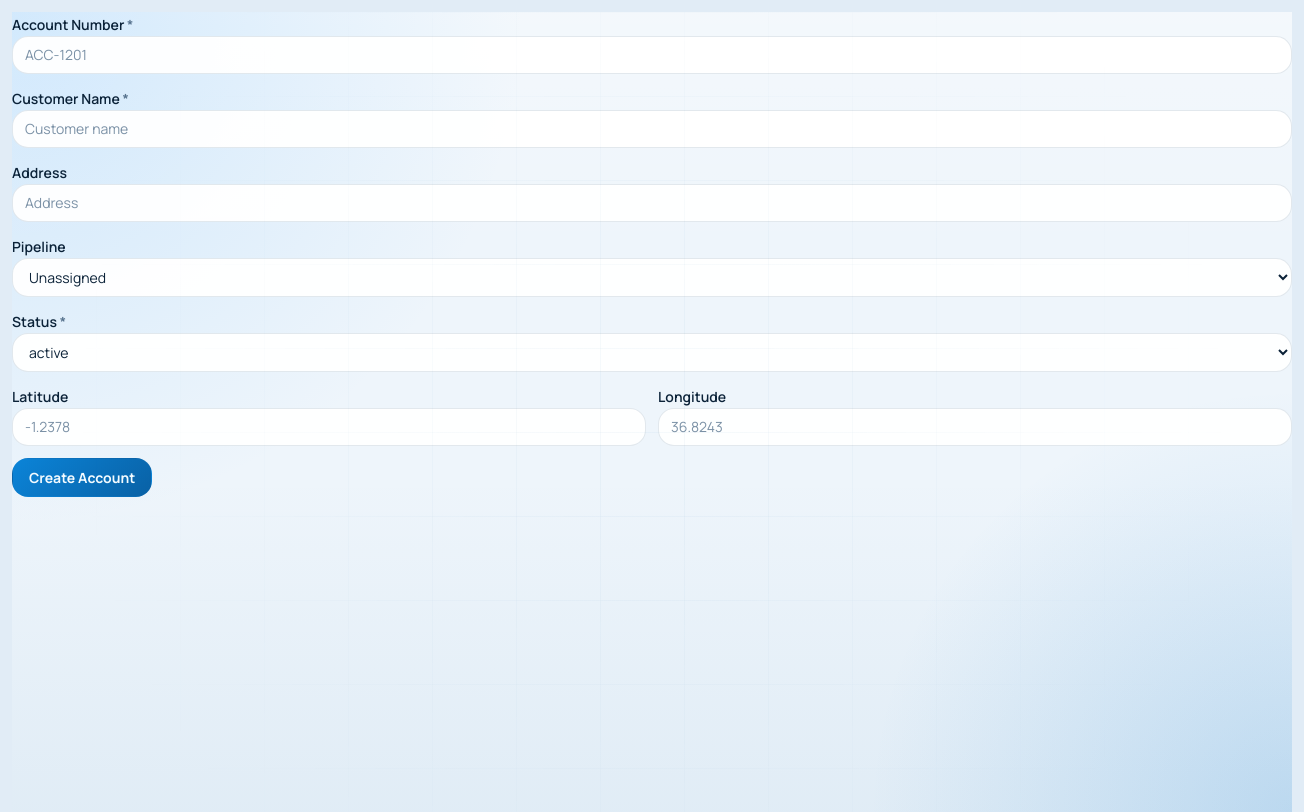
AccountFormClient › validates coordinate pair requirement
Type "acc-9001" into the field labelled "Account Number *".
click(652, 55); type("acc-9001")  # box [12, 36, 1292, 74]
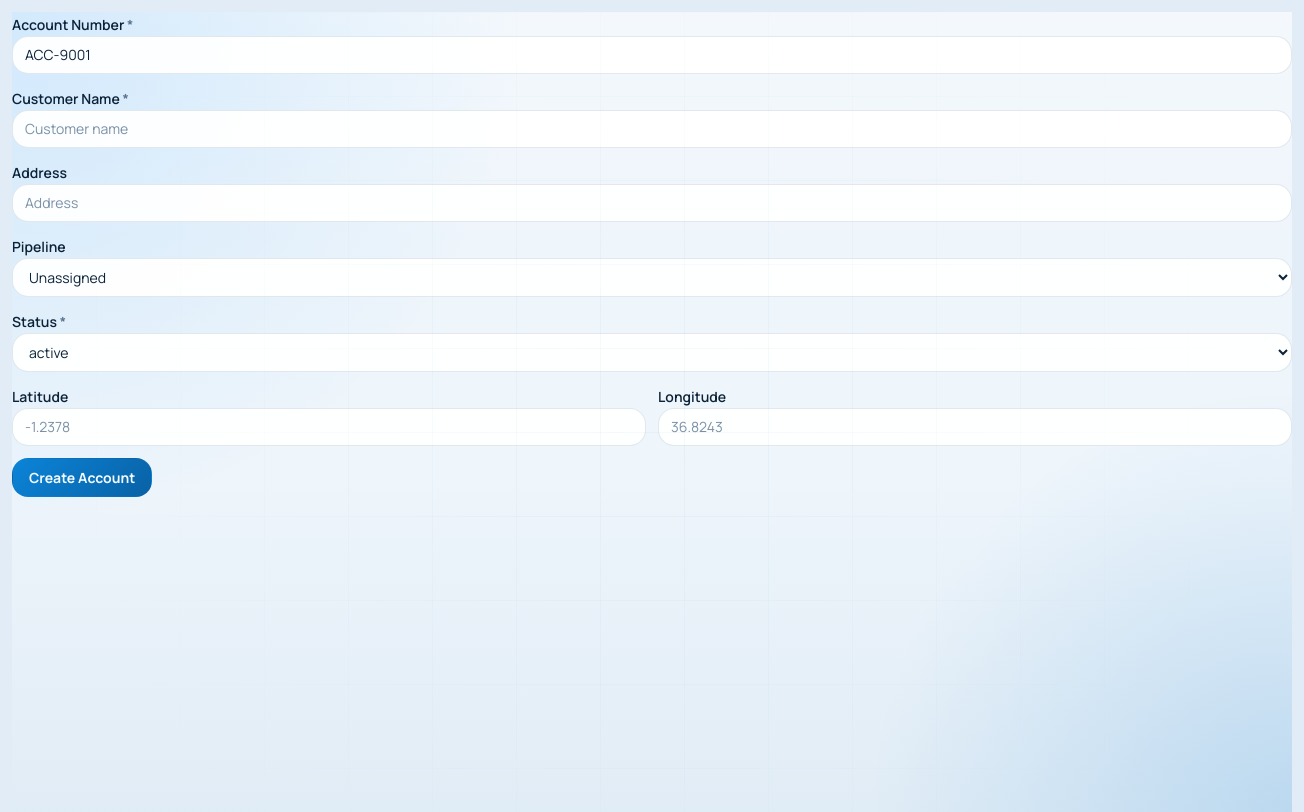
Type "New Customer" into the field labelled "Customer Name *".
click(652, 129); type("New Customer")  # box [12, 110, 1292, 148]
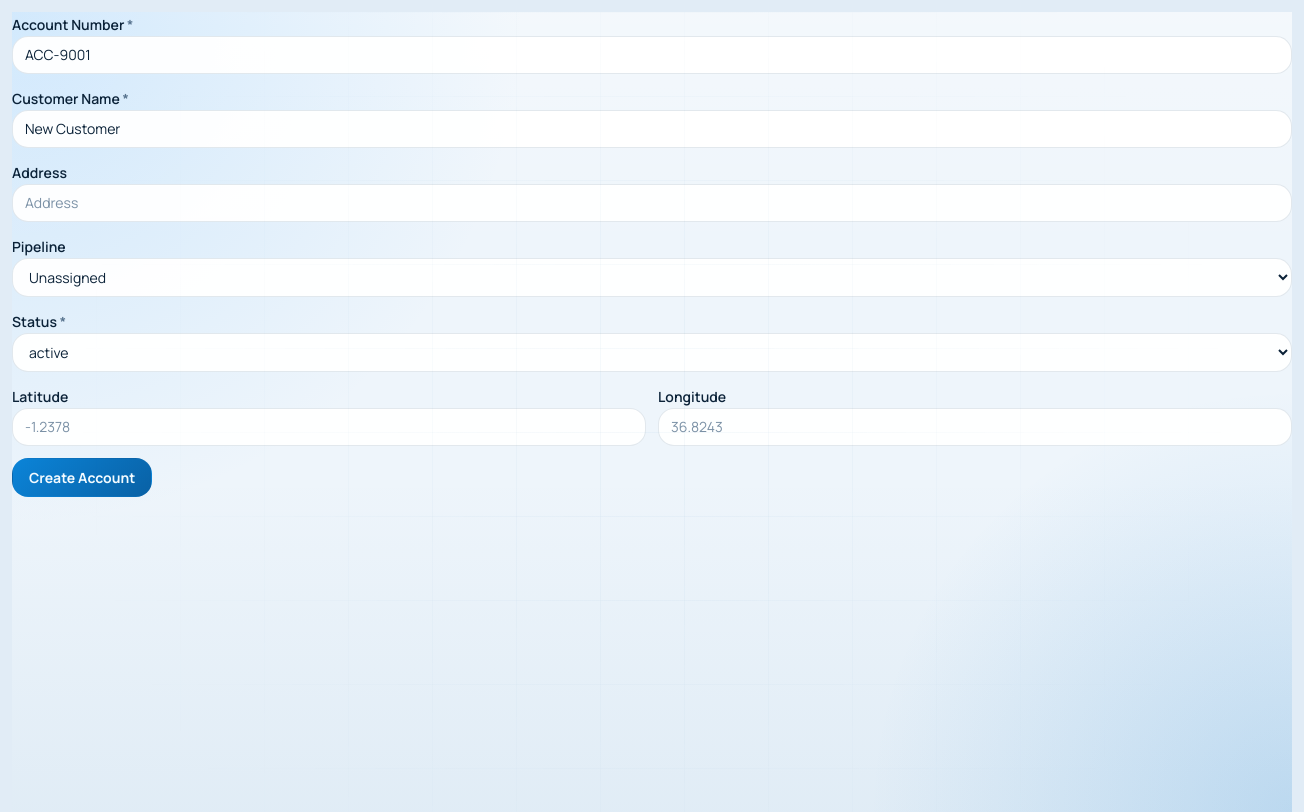
Type "6.50" into the field labelled "Latitude".
click(329, 427); type("6.50")  # box [12, 408, 646, 446]
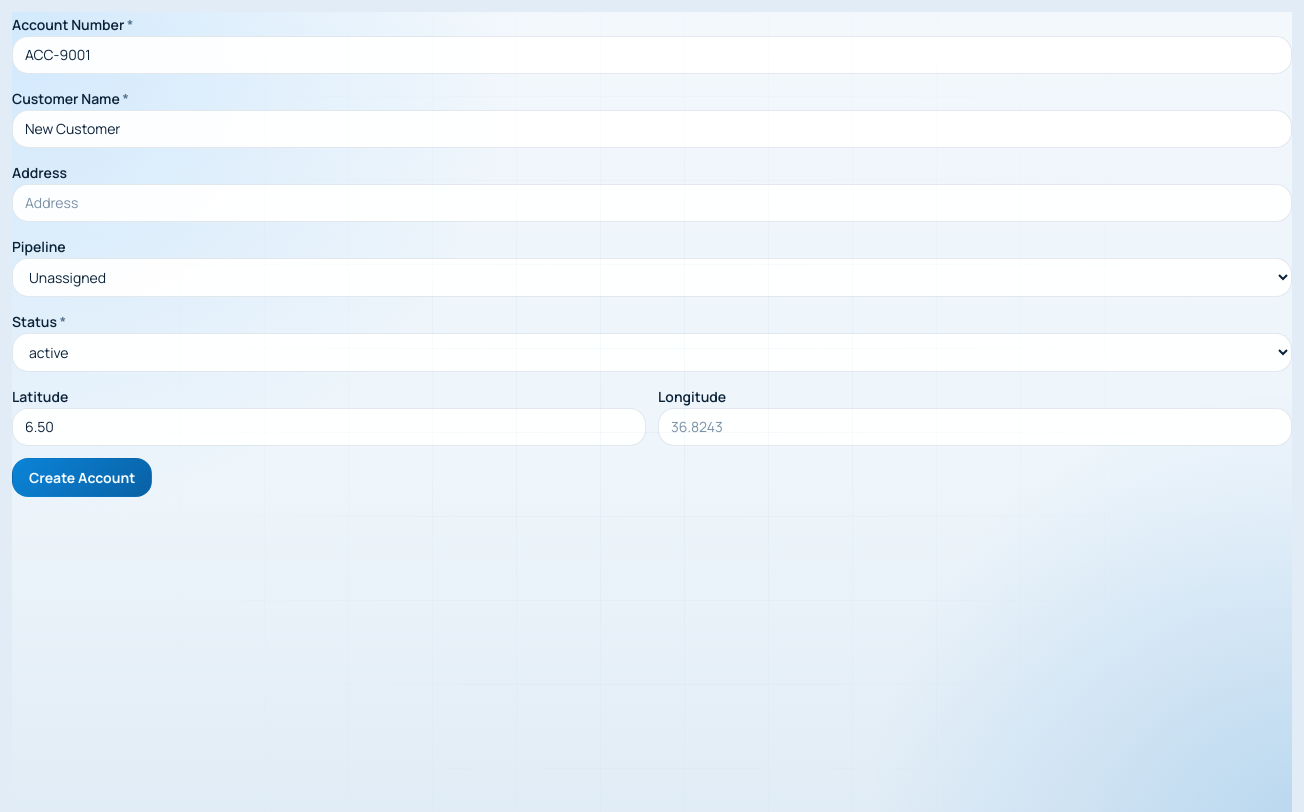
Click the button "Create Account".
click(82, 478)  # box [12, 458, 152, 497]
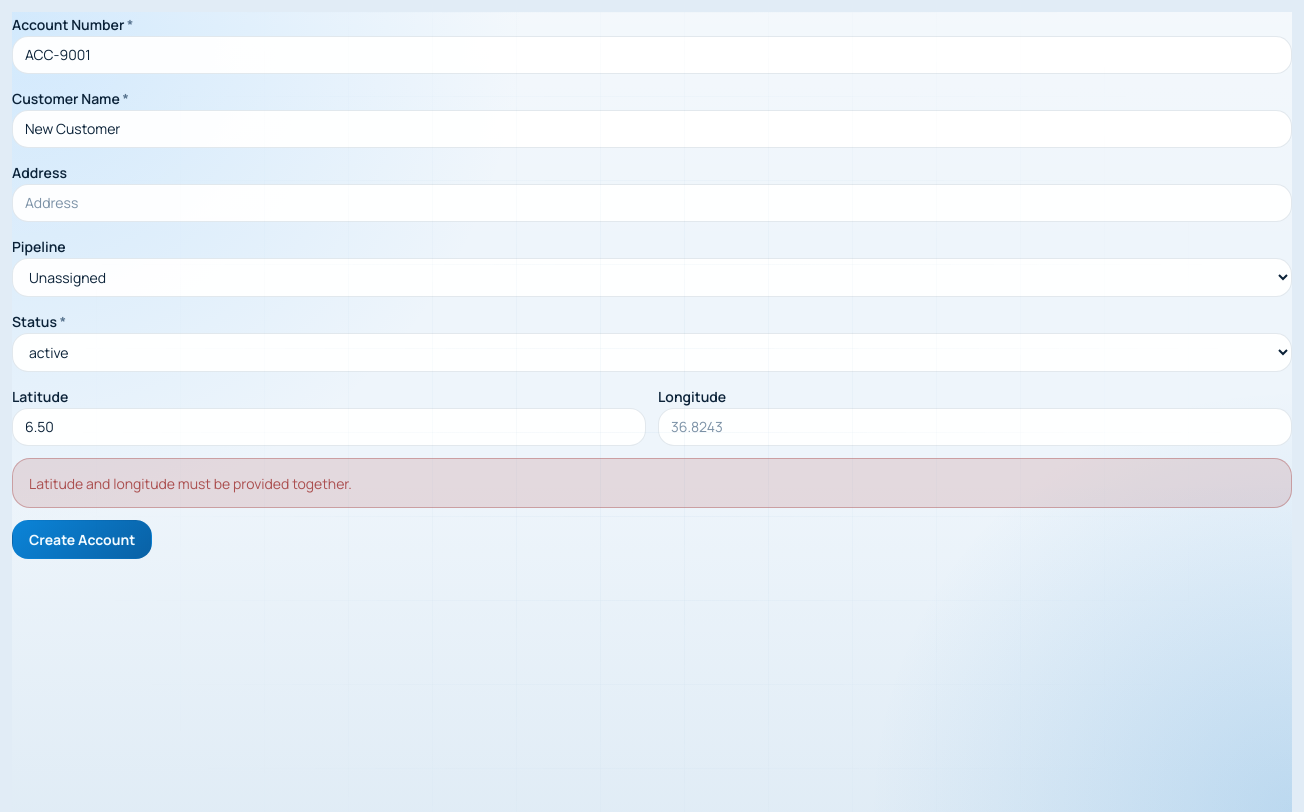
expect the text "Latitude and longitude must be provided together." is shown: met, box [12, 458, 1292, 508]
